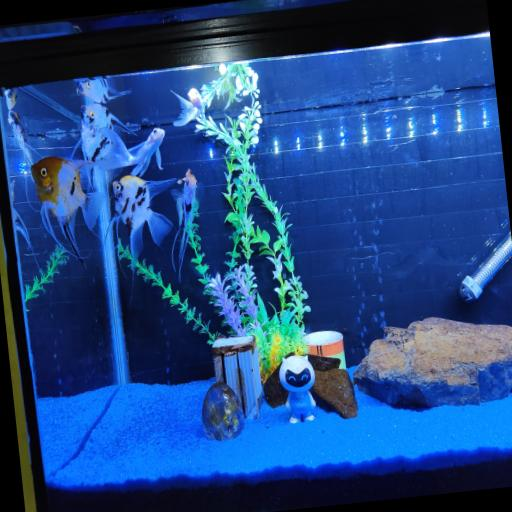Fish: (31, 157, 105, 266), (111, 176, 177, 278), (97, 128, 165, 177), (172, 170, 202, 281), (81, 104, 135, 160), (20, 86, 80, 123), (13, 208, 39, 269), (8, 111, 35, 164), (77, 78, 131, 103), (171, 88, 205, 126), (4, 88, 17, 110)
